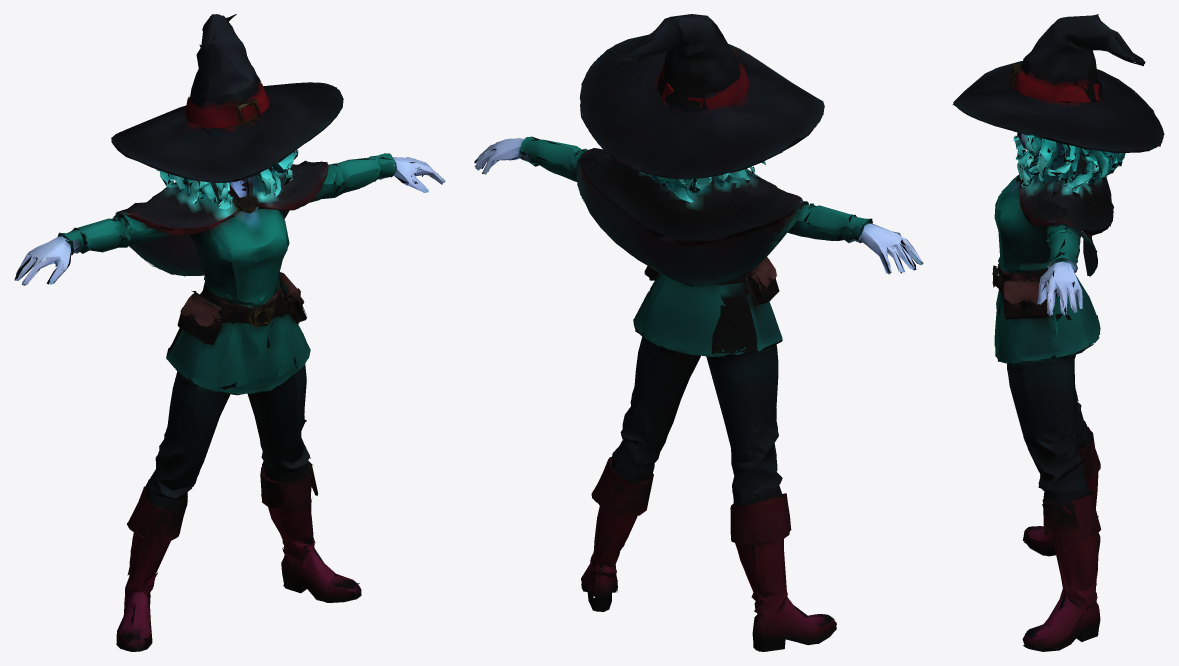
The model's file is witch.fbx.
3 renders of one model, left to right at view 1: azimuth 30°, elevation 25°; view 2: azimuth 150°, elevation 25°; view 3: azimuth 270°, elevation 25°, orthographic. The views are drawn at different scales.
Parts seen in each view (by area): view 1: geometry_0.001; view 2: geometry_0.001; view 3: geometry_0.001.
Boxes of the visible parts, <box> form: geometry_0.001: <box>14,14,445,651</box>; geometry_0.001: <box>474,14,923,651</box>; geometry_0.001: <box>952,14,1164,651</box>.
Bounding box in the file's own units: 75.72 × 100 × 33.03.
1 material, 1 textured.
